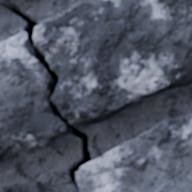brick: (76, 114, 191, 191), (0, 182, 42, 191)
broken_brick: (34, 0, 191, 128), (0, 31, 71, 162)
crack: (0, 2, 91, 189)
